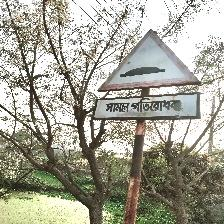Speed-breaker: (95, 29, 204, 122)
